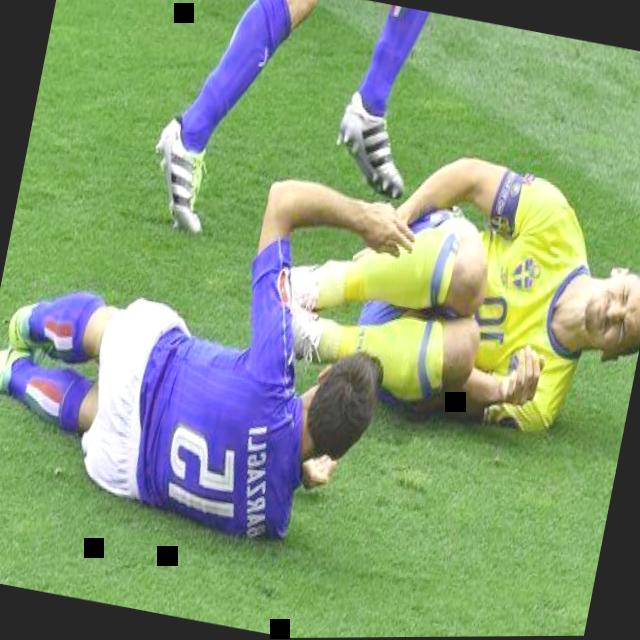Fall-Detected: (232, 92, 640, 474)
